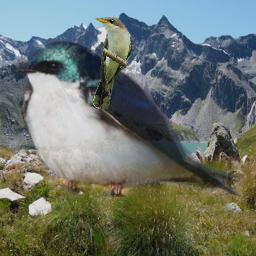Cuckoo: (92, 17, 132, 109)
Swallow: (11, 38, 244, 197)
